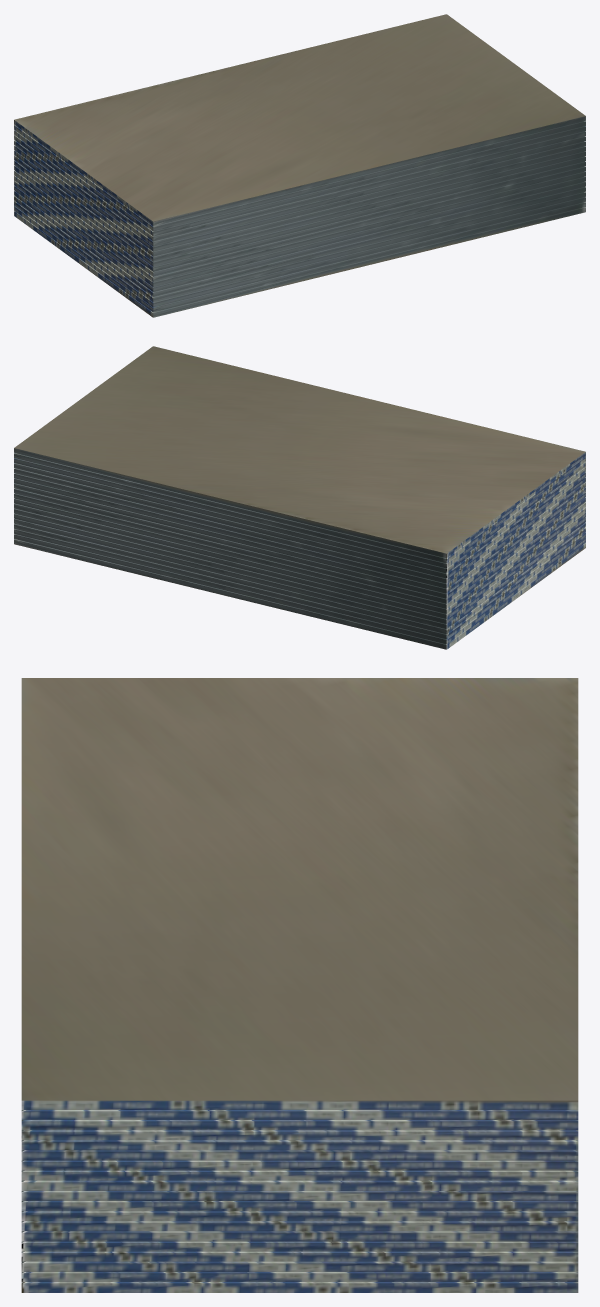
The model's file is gypsum(2).glb.
3 views of the same model, one above another, from view 1: azimuth 30°, elevation 25°; view 2: azimuth 150°, elevation 25°; view 3: azimuth 270°, elevation 25° (orthographic). The views are drawn at different scales.
Parts seen in each view (by area): view 1: Cube; view 2: Cube; view 3: Cube.
Part boxes in pixels (x1,y1,x2,y2): Cube: (14,14,585,317); Cube: (14,346,585,649); Cube: (21,678,578,1292).
Bounding box in the file's own units: 3.59 × 0.7623 × 2.
Materials: 1 (1 with a texture image).
